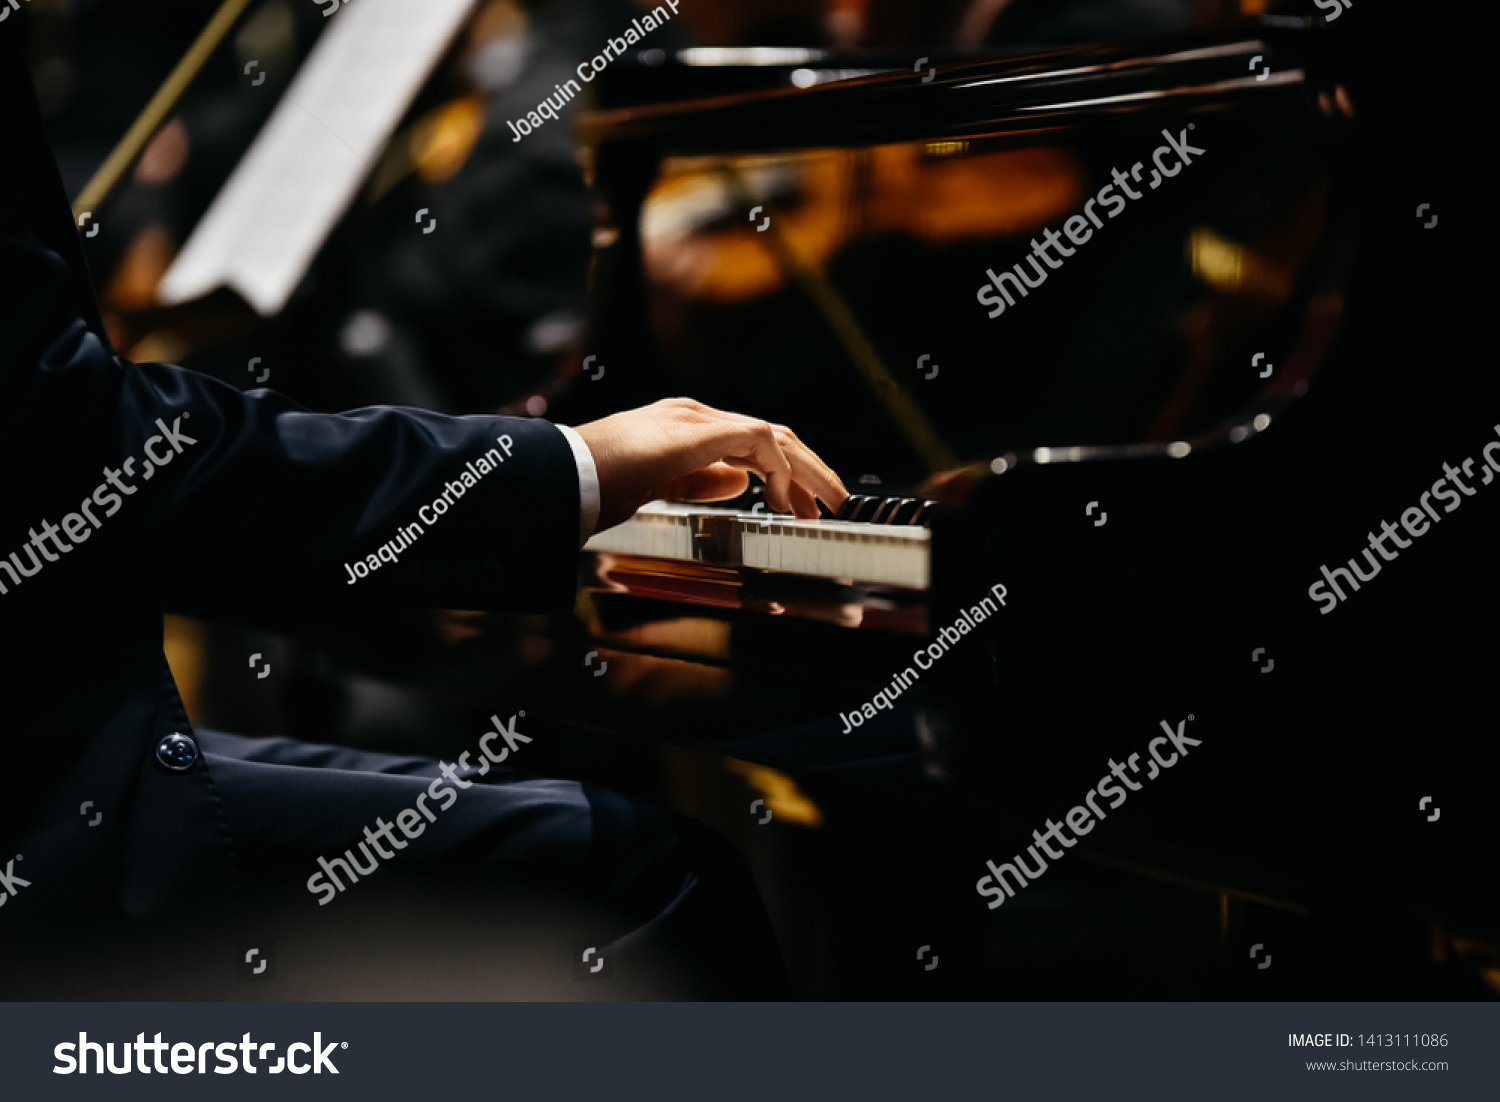Piano: (418, 75, 1500, 776)
